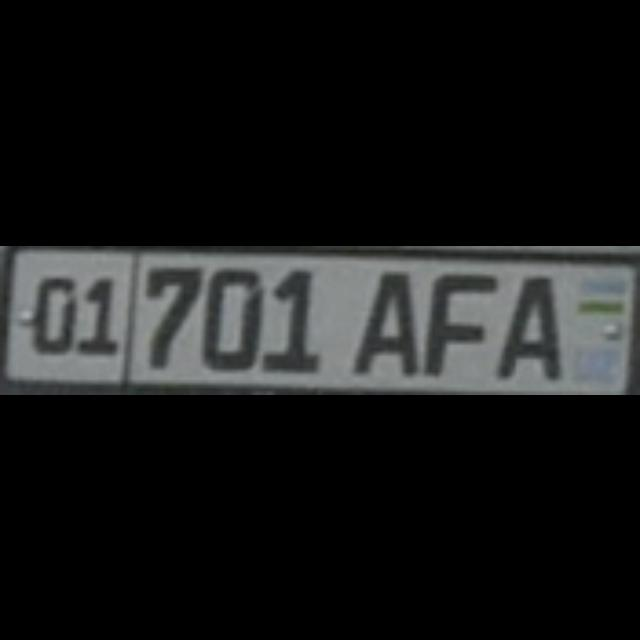0: (198, 263, 260, 369), (29, 271, 73, 351)
1: (256, 267, 314, 369), (76, 274, 114, 348)
7: (142, 263, 198, 365)
A: (348, 267, 417, 373), (486, 274, 556, 376)
F: (424, 270, 498, 370)
